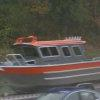Boat: (1, 29, 100, 91)
